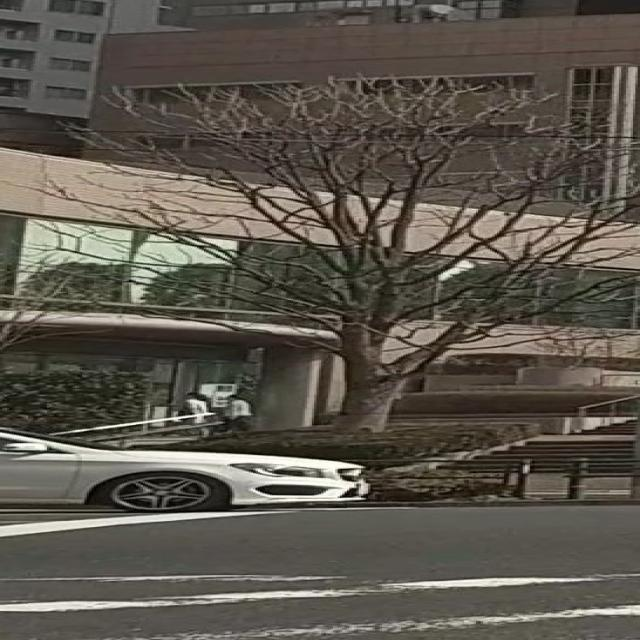maple: (0, 72, 640, 434)
